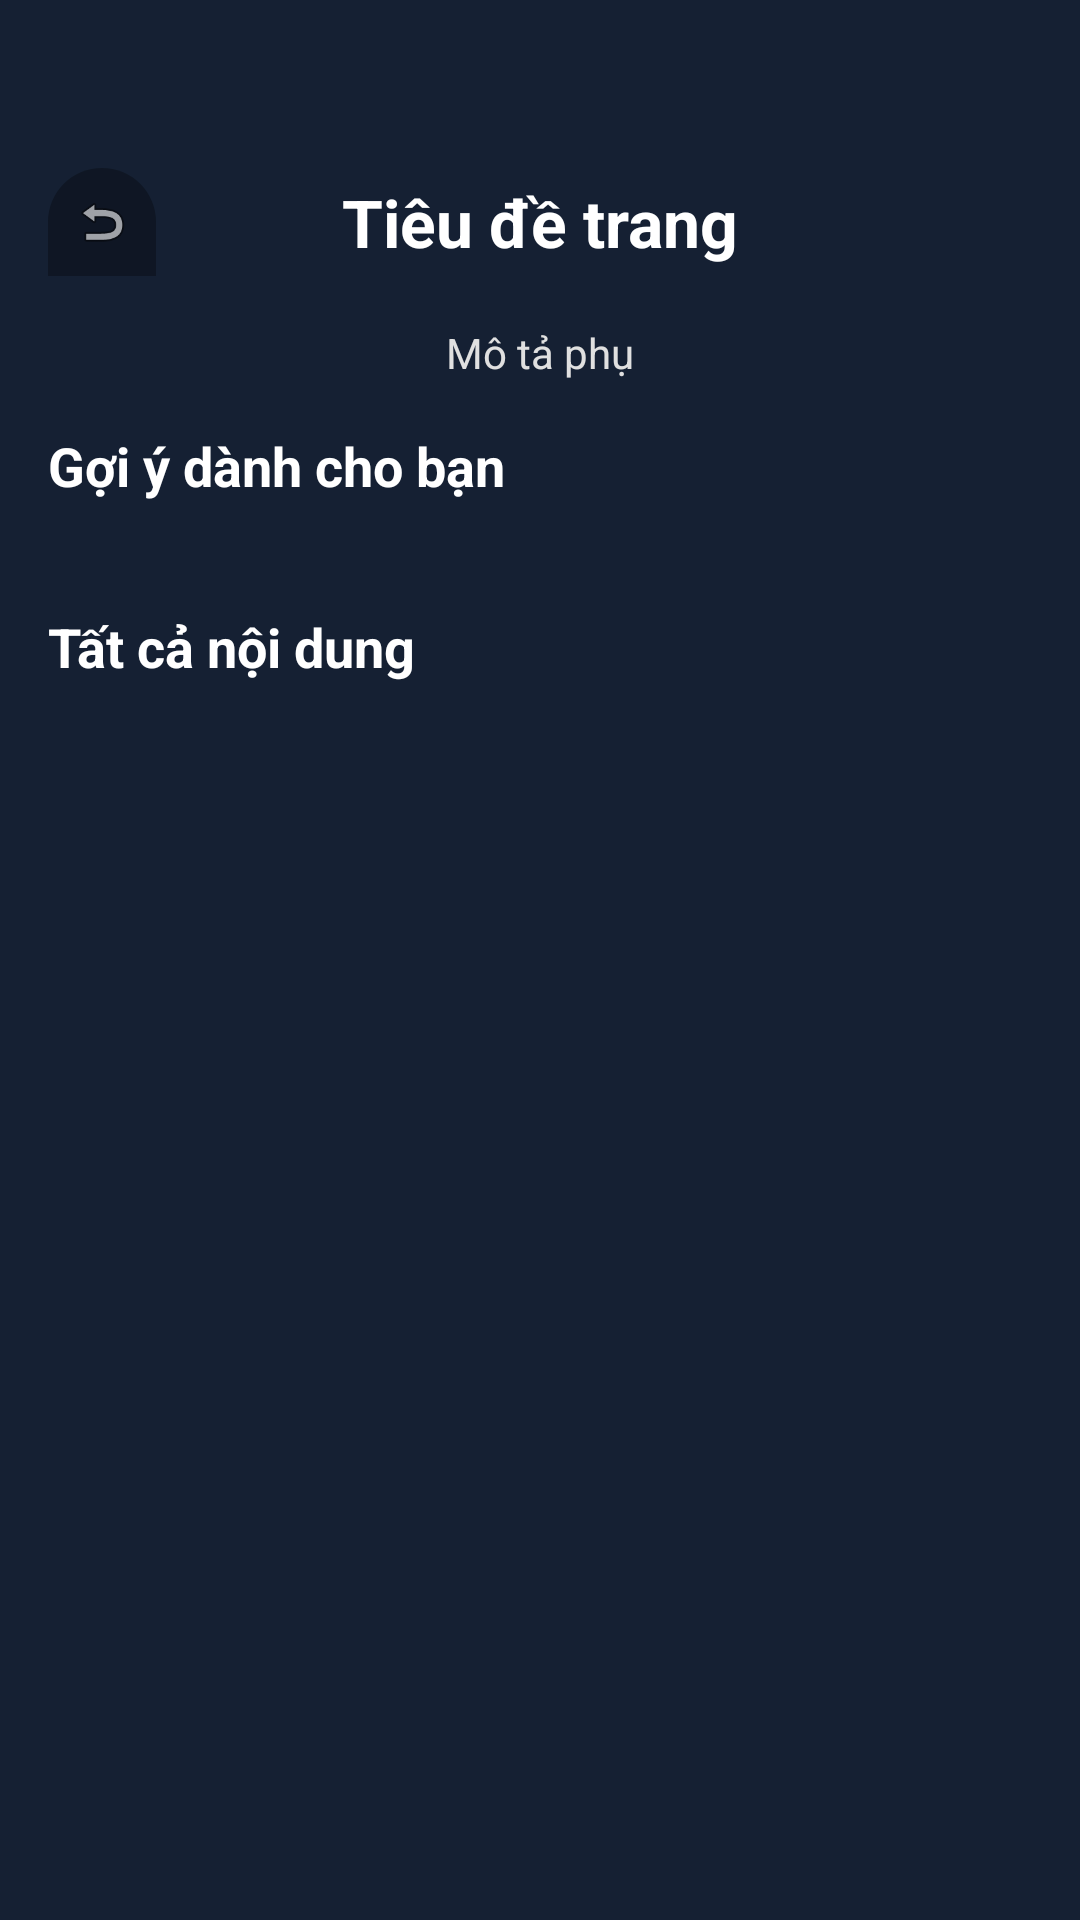

Locate icon controls on the screen. Image size 1080 x 1920, boxes as (x1, y1, x2, y2).
revert: (48, 168, 156, 276)
